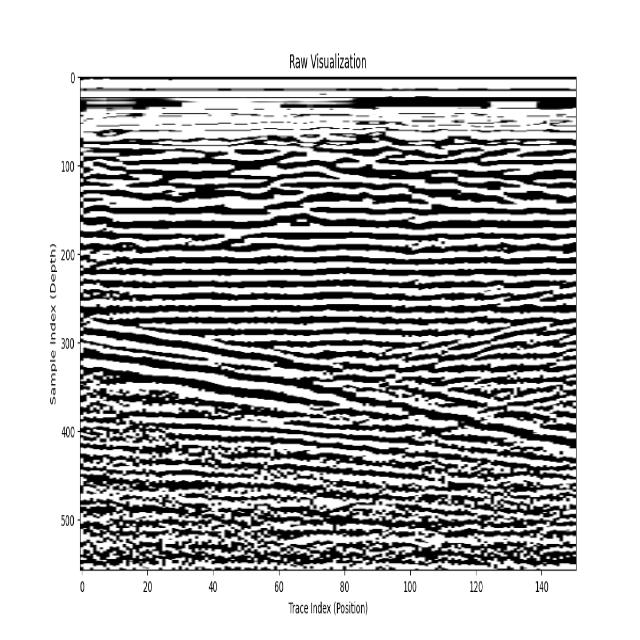anomaly: (84, 292, 575, 474)
